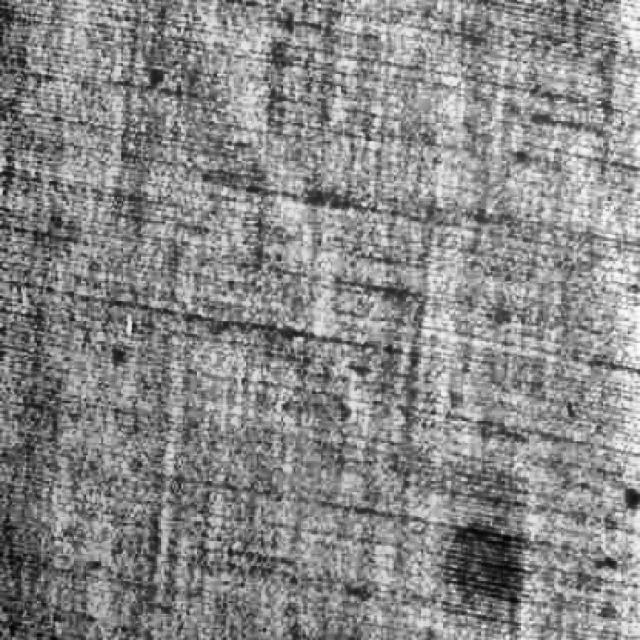oil_spot: (424, 515, 542, 640)
